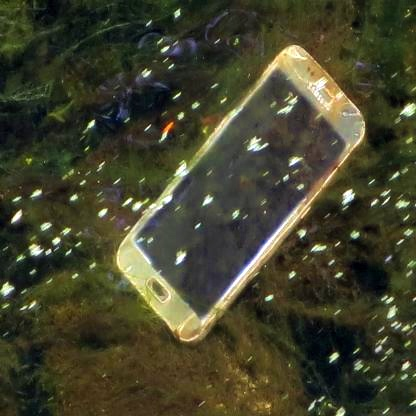cellphone: (116, 43, 365, 344)
